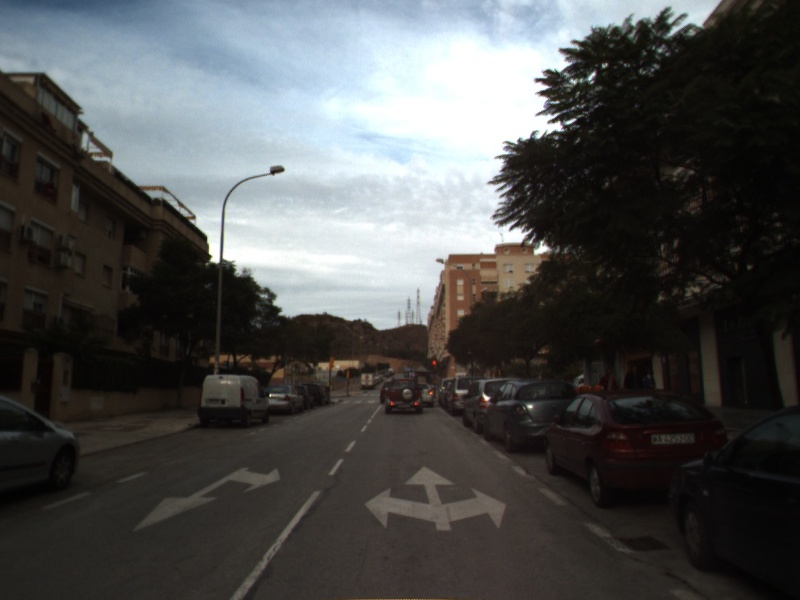STRAIGHT_LEFT_RIGHT: (362, 464, 509, 533)
